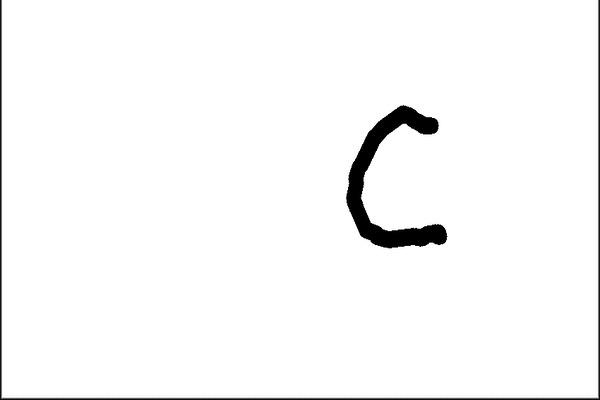C: (342, 100, 454, 253)
